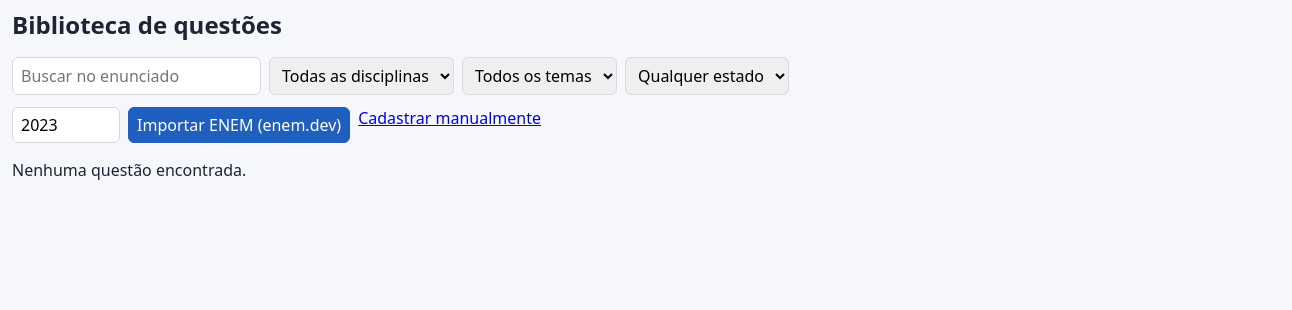
Telas React › importação apresenta resultado e atualiza biblioteca
The image size is (1292, 310).
Step 1. Click the button "Importar ENEM (enem.dev)" → [239, 125], box x1=128 y1=107 x2=350 y2=143
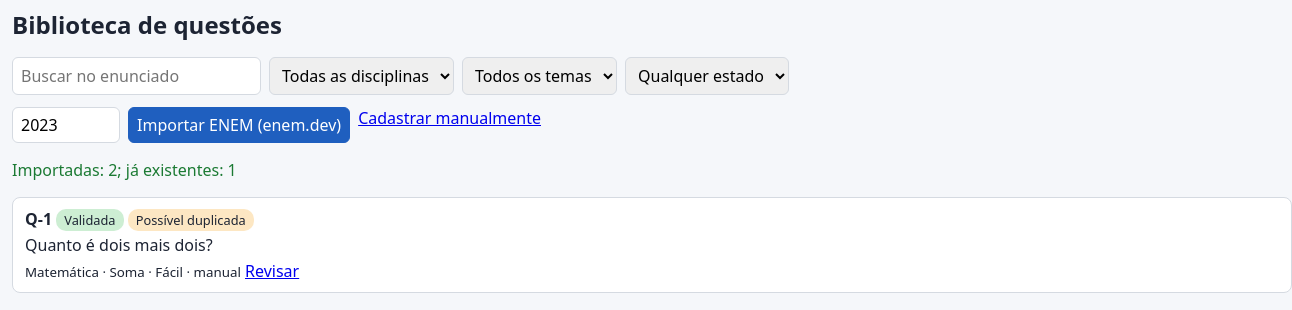
Result: the text "Importadas: 2; já existentes: 1" is shown at x1=12 y1=159 x2=237 y2=181
